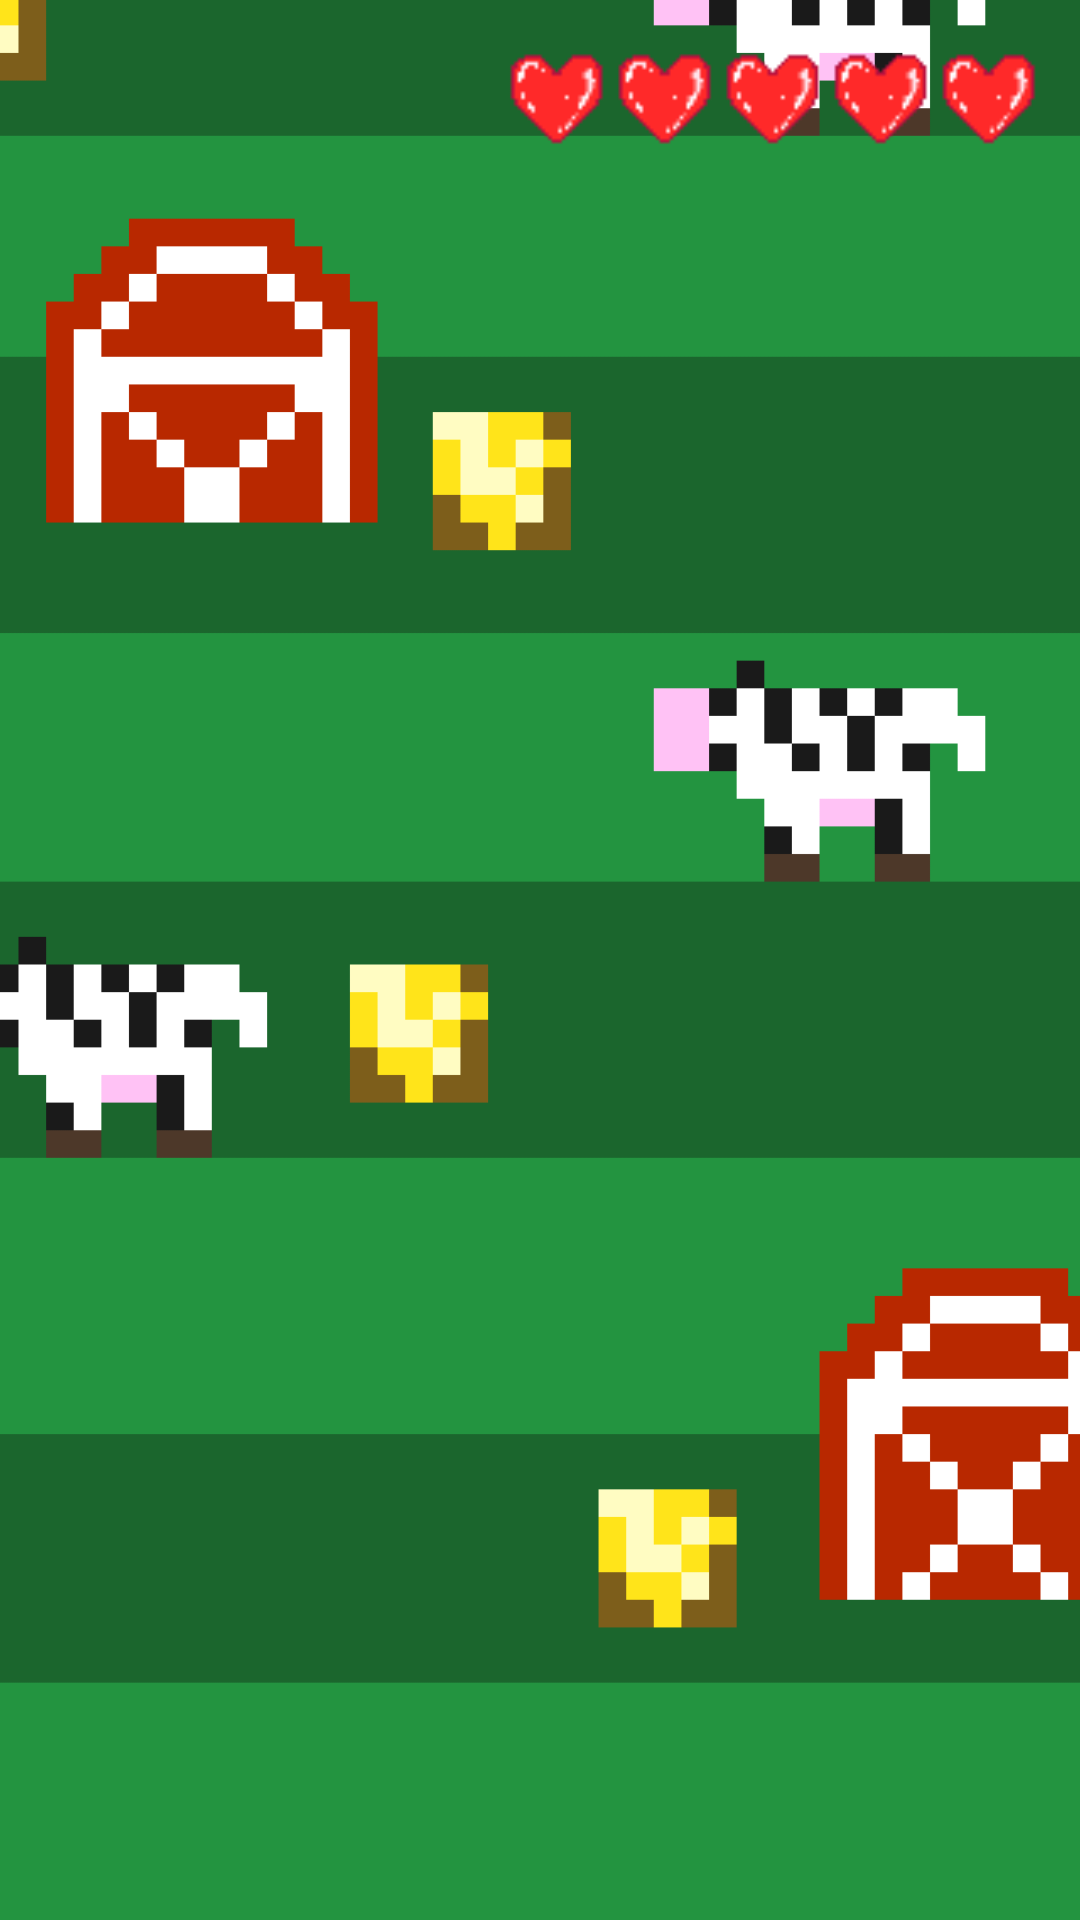

Icons on this 1080x1920 Android screen, each with the point to tap as (x=x, y=y):
heart: (x=771, y=99), (x=879, y=99), (x=987, y=99), (x=555, y=103), (x=663, y=103)
